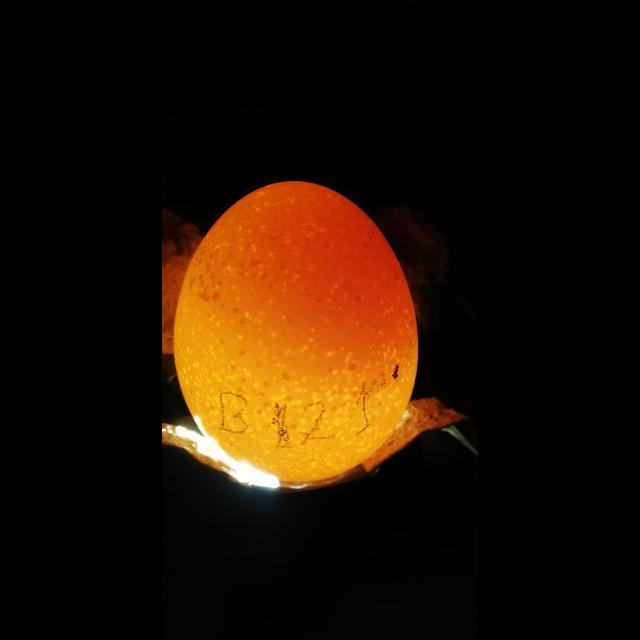Fertile: (173, 178, 425, 494)
